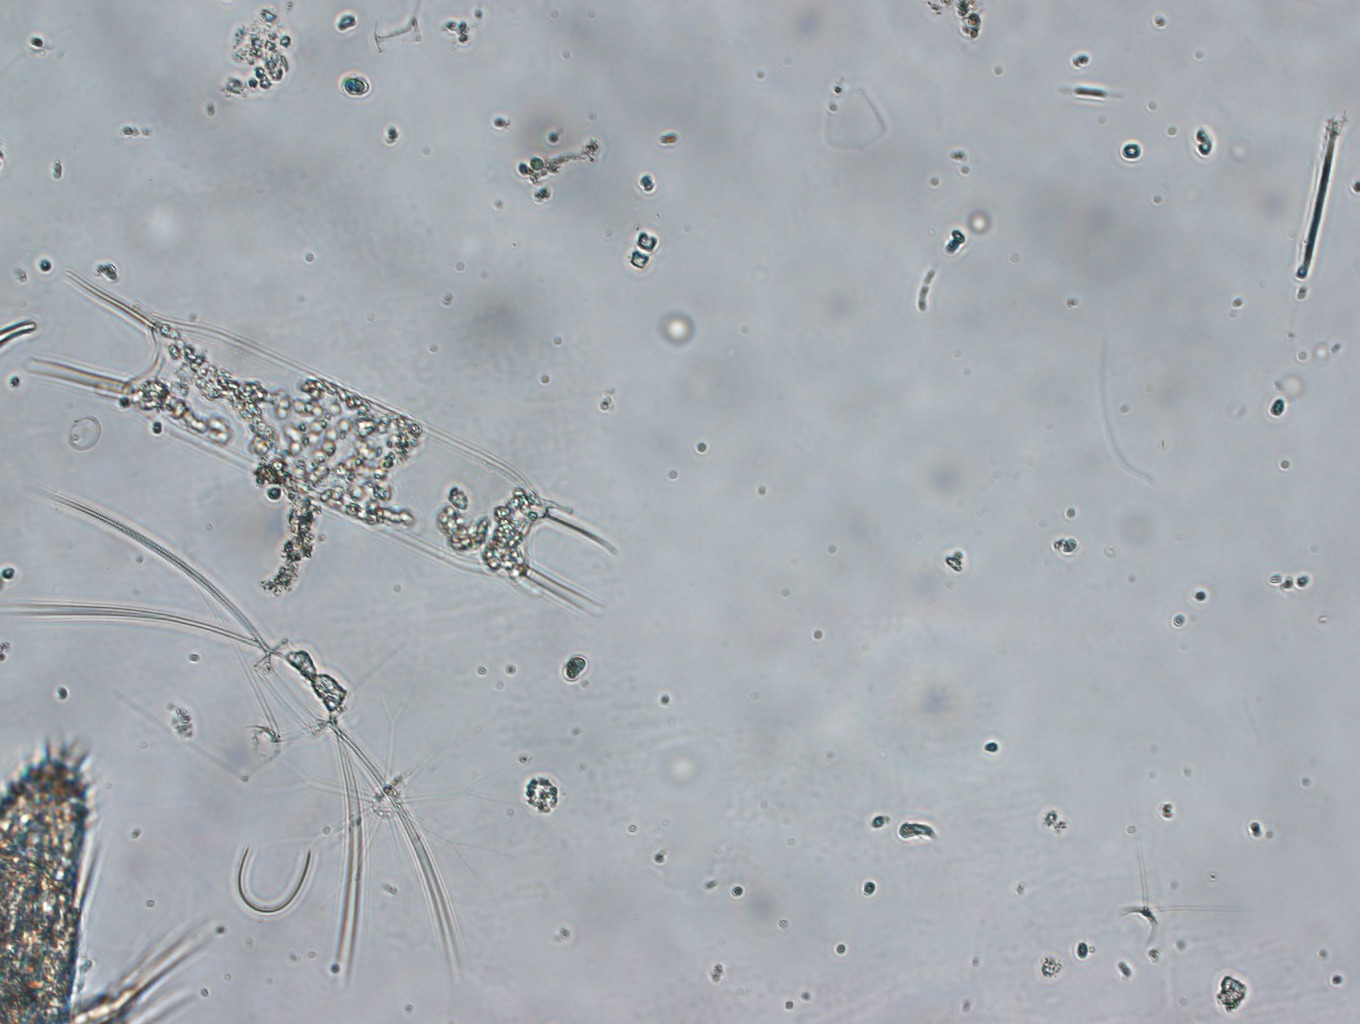biddulphia: (25, 251, 617, 631)
chaetoceros: (6, 479, 467, 997)
